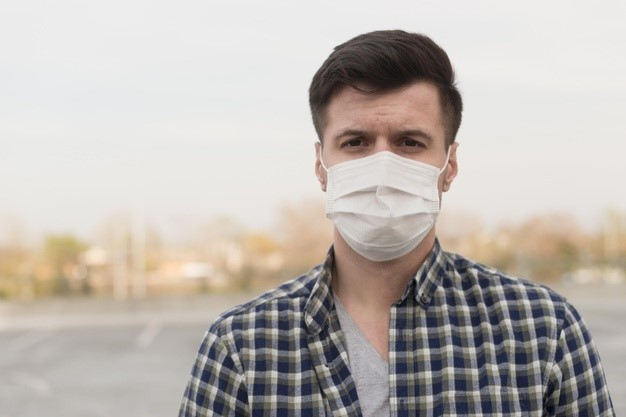face_with_mask: (307, 72, 459, 275)
